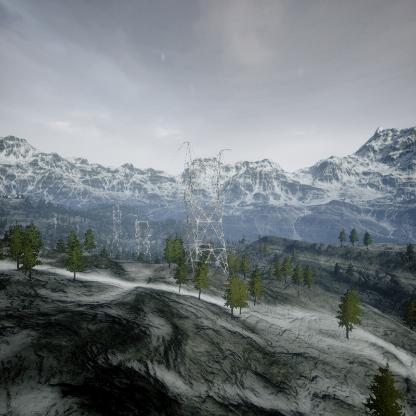tower: (177, 139, 234, 286)
